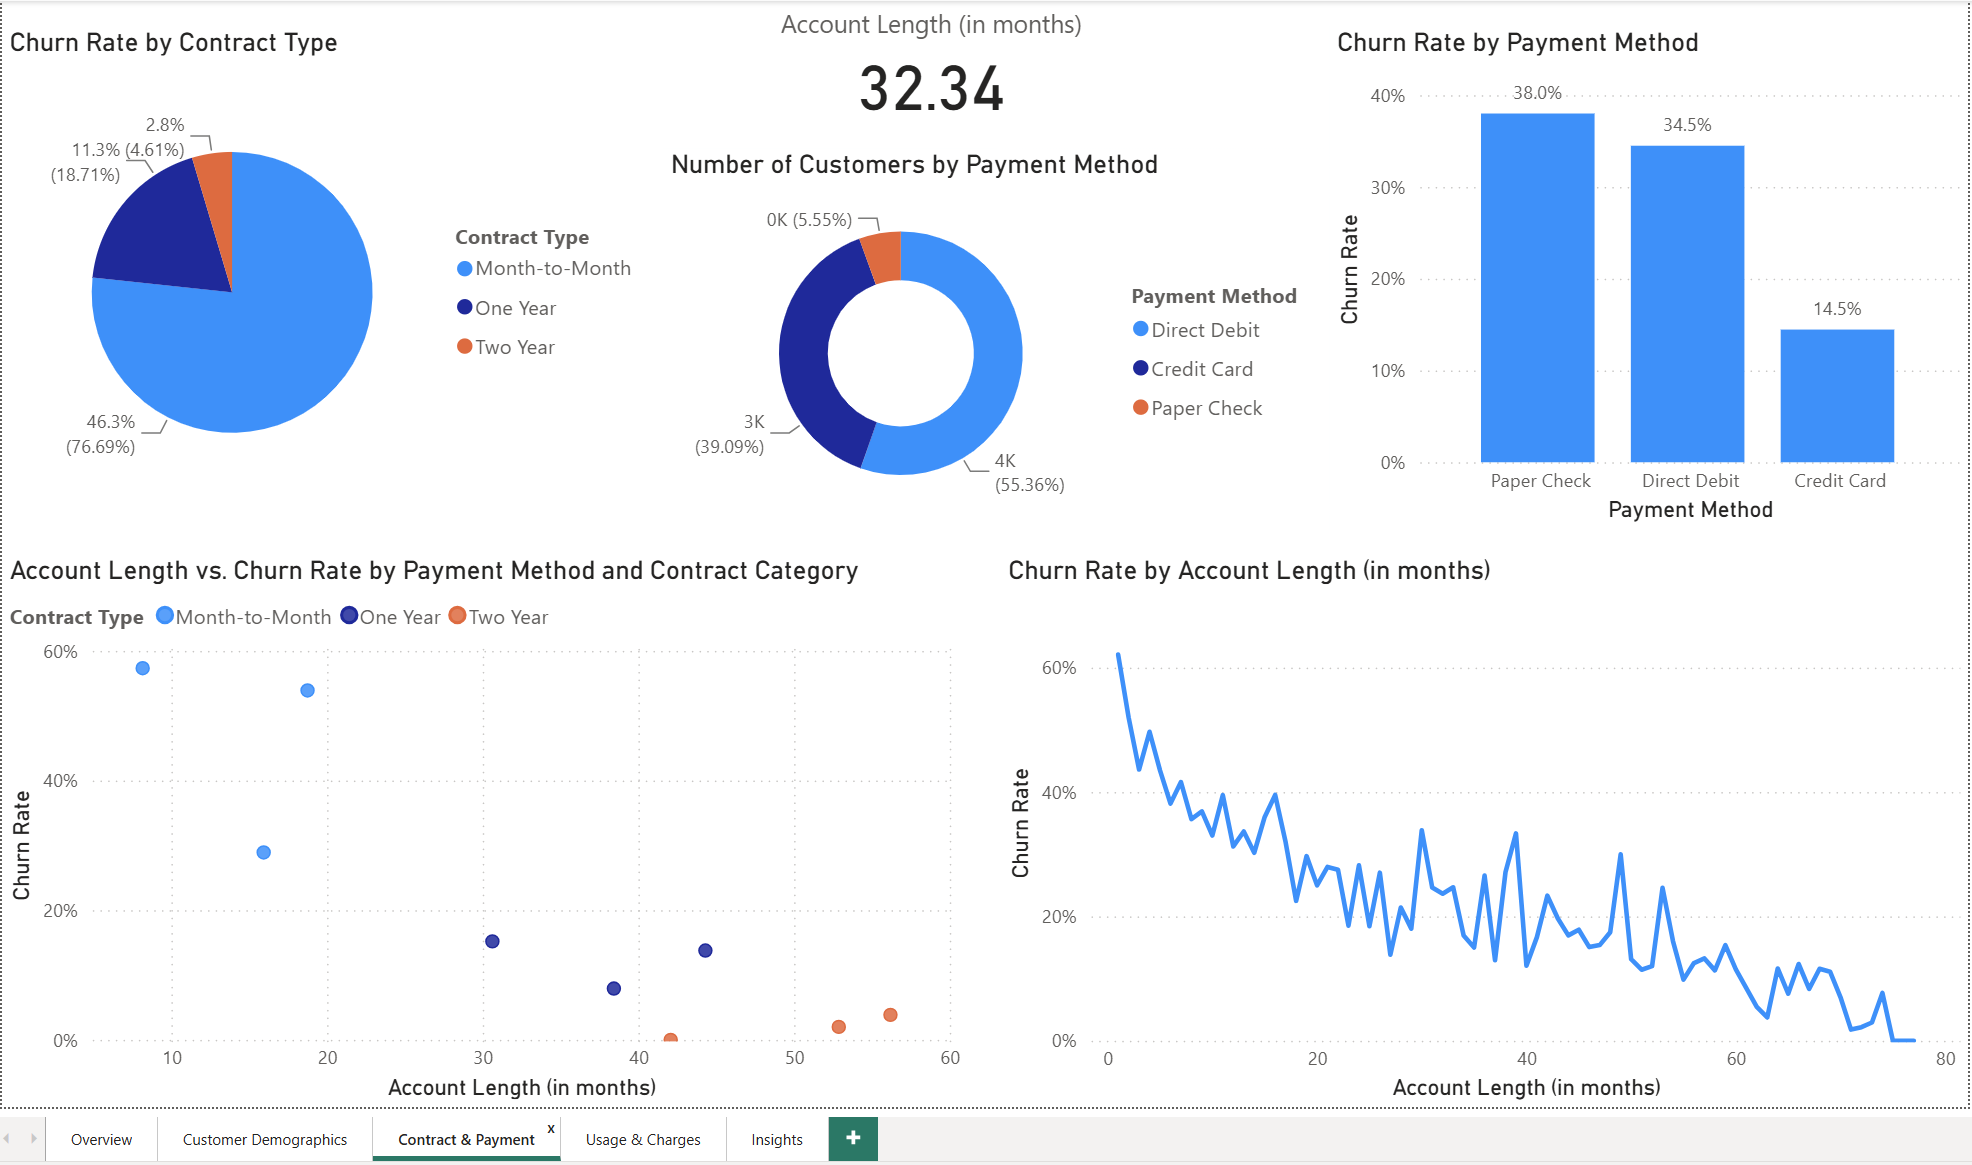

Layout of this report page (visuals, bound fields, positions):
{"tool":"powerbi","page":{"name":"Contract & Payment","canvas":[1280,720],"ordinal":2},"visuals":[{"type":"lineChart","fields":{"Category":["Databel - Data.Account Length (in months)"],"Y":["Databel - Data.Churn Rate"]},"box":[650.1,360.4,630.1,360.4],"z":0},{"type":"pieChart","fields":{"Category":["Databel - Data.Contract Type"],"Y":["Databel - Data.Churn Rate"]},"box":[0,16,424,328],"z":1000},{"type":"clusteredColumnChart","fields":{"Category":["Databel - Data.Payment Method"],"Y":["Databel - Data.Churn Rate"]},"box":[864,16,416,328],"z":2000},{"type":"scatterChart","title":"Account Length vs. Churn Rate by Payment Method and Contract Category","fields":{"Category":["Databel - Data.Payment Method"],"Series":["Databel - Data.Contract Type"],"X":["Avg(Databel - Data.Account Length (in months))"],"Y":["Databel - Data.Churn Rate"]},"box":[0,360.4,629.2,359.5],"z":3000},{"type":"cardVisual","fields":{"Data":["Avg(Databel - Data.Account Length (in months))"]},"box":[430.2,0,349.1,83.8],"z":4000},{"type":"donutChart","fields":{"Category":["Databel - Data.Payment Method"],"Y":["Databel - Data.Number of Customers"]},"box":[430.2,96,433.7,247.8],"z":6001}]}

Visuals, with their boxes on the page's 1280x720 design canvas (x1, y1, x2, y2). These are canvas units, not pixel positions in the 1972x1165 screenshot, which may show the page scaled, cropped or inside an application window:
lineChart - Databel - Data.Account Length (in months) x Databel - Data.Churn Rate: [x1=650, y1=360, x2=1280, y2=721]
pieChart - Databel - Data.Contract Type x Databel - Data.Churn Rate: [x1=0, y1=16, x2=424, y2=344]
clusteredColumnChart - Databel - Data.Payment Method x Databel - Data.Churn Rate: [x1=864, y1=16, x2=1280, y2=344]
"Account Length vs. Churn Rate by Payment Method and Contract Category" scatterChart: [x1=0, y1=360, x2=629, y2=720]
cardVisual - Avg(Databel - Data.Account Length (in months)): [x1=430, y1=0, x2=779, y2=84]
donutChart - Databel - Data.Payment Method x Databel - Data.Number of Customers: [x1=430, y1=96, x2=864, y2=344]
